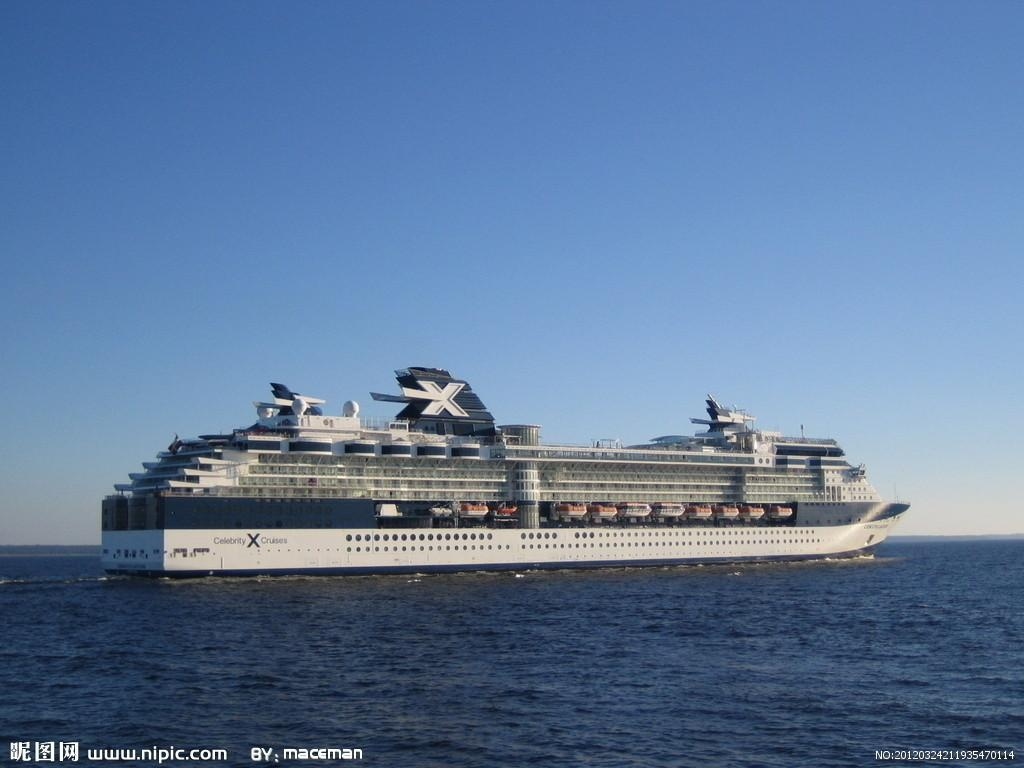youlun: (99, 349, 908, 579)
